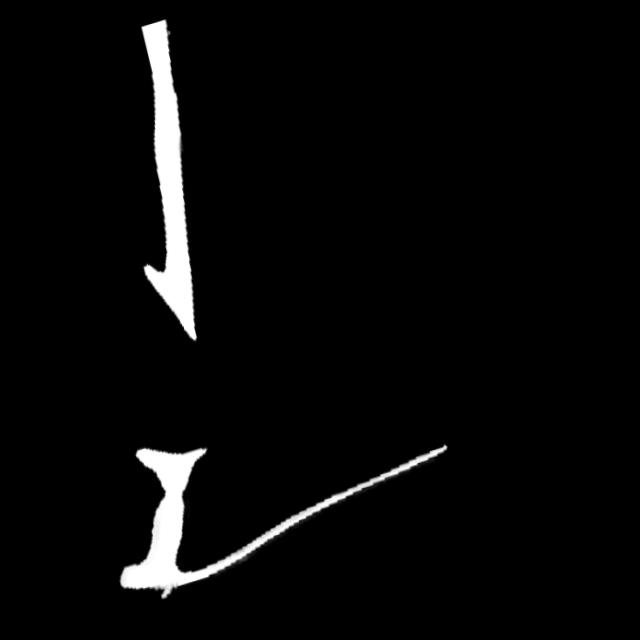sup_pli: (154, 576, 184, 609)
